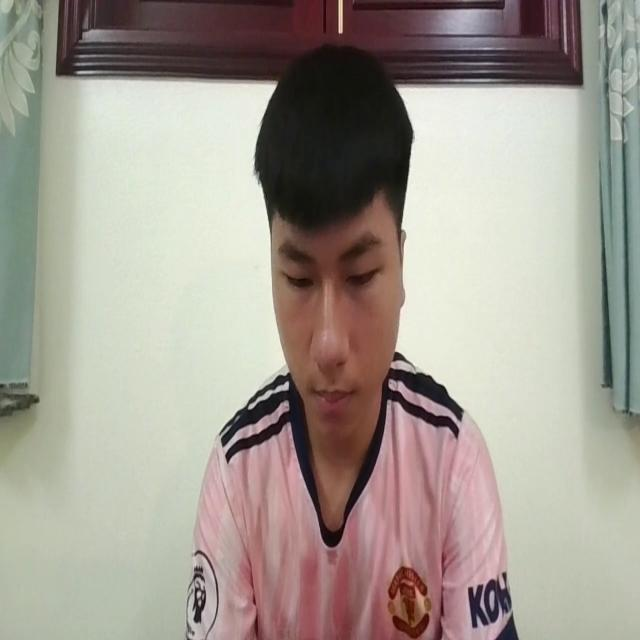student: (183, 37, 512, 640)
